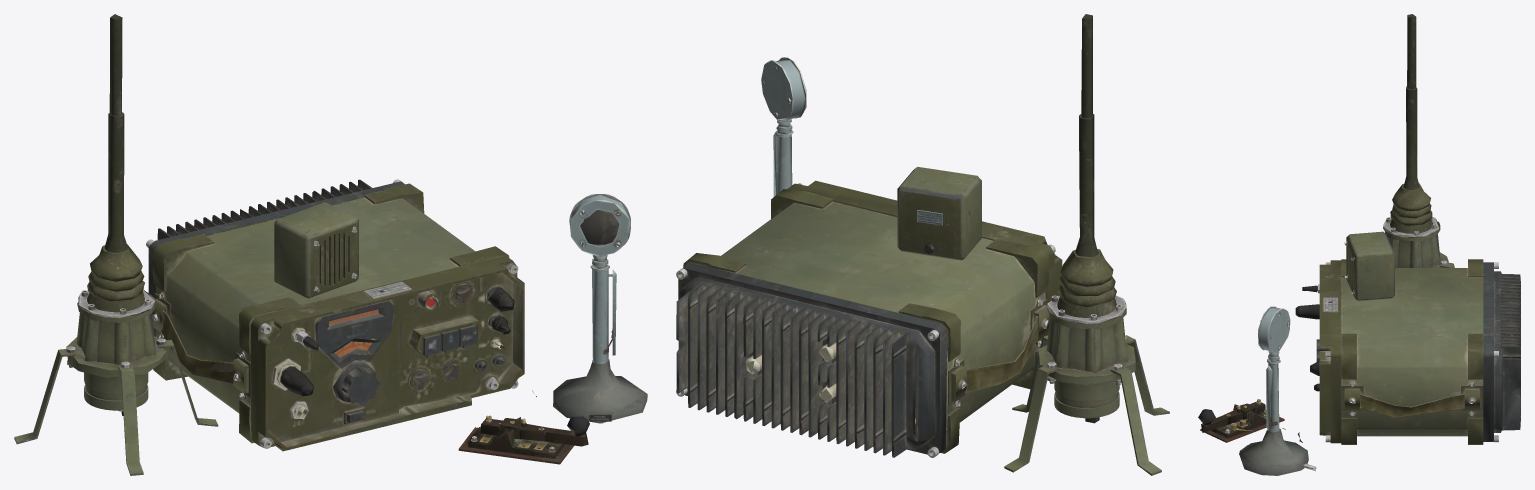
The model's file is vintage_radio_transceiver.glb.
The picture shows the model from 3 angles, left to right: view 1: azimuth 30°, elevation 25°; view 2: azimuth 150°, elevation 25°; view 3: azimuth 270°, elevation 25°; orthographic projection. The views are drawn at different scales.
Visible parts, largest first — view 1: vintage_radio_transceiver, vintage_radio_transceiver_cable; view 2: vintage_radio_transceiver, vintage_radio_transceiver_cable; view 3: vintage_radio_transceiver, vintage_radio_transceiver_cable.
Part boxes in pixels (x1=…): vintage_radio_transceiver: x1=146, y1=179, x2=524, y2=451; vintage_radio_transceiver_cable: x1=14, y1=14, x2=647, y2=475; vintage_radio_transceiver: x1=676, y1=180, x2=1062, y2=457; vintage_radio_transceiver_cable: x1=761, y1=14, x2=1169, y2=475; vintage_radio_transceiver: x1=1316, y1=259, x2=1520, y2=444; vintage_radio_transceiver_cable: x1=1198, y1=14, x2=1454, y2=475.
Bounding box in the file's own units: 0.5639 × 0.4344 × 0.4131.
2 materials, 2 textured.
